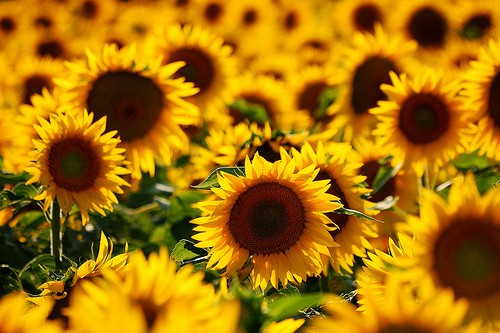flower: (46, 39, 202, 182), (187, 155, 345, 292), (391, 172, 500, 333), (367, 59, 484, 186), (23, 105, 133, 232), (138, 22, 243, 123)
